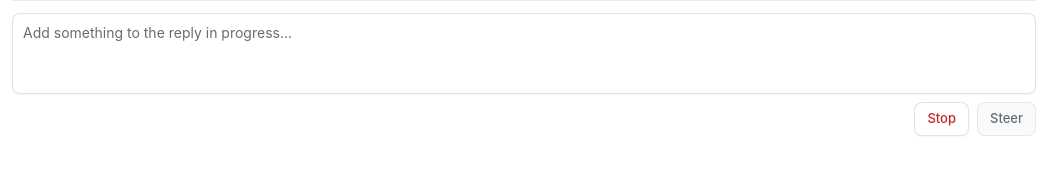
Test: Composer › Stop posts to the run and keeps your draft
This screenshot has width=1048, height=178.
Later steps or results of the test are not shown.
(page scrolled)
Type "Half-written idea" into the text box labelled "Add something to the reply in progress…". click: point(524, 54)
box: [12,13,1036,94]
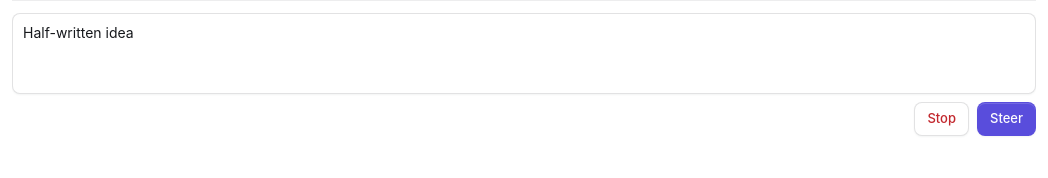
Click the button "Stop". click: point(942, 119)
box: [914,102,969,136]
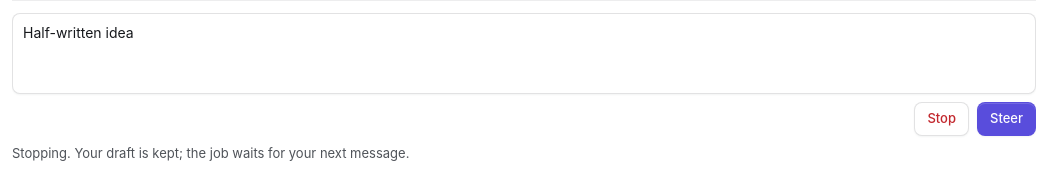
Expected: the message shows "draft is kept", [12,145,409,161]
